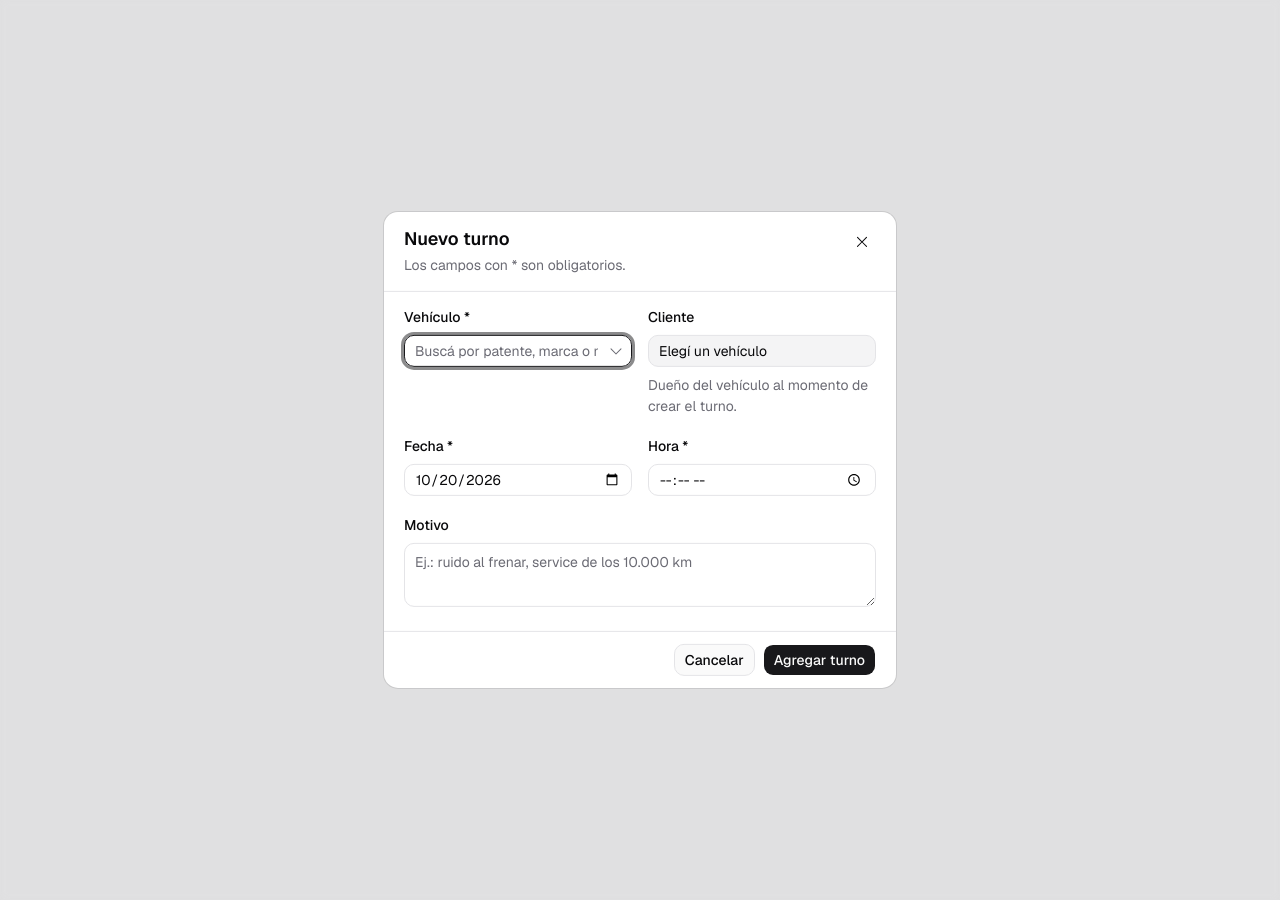
appointment modal: create › stays open with the server's field error
Type "ae" into the dropdown labelled "Vehículo *". click: point(504, 351)
box: [405,335,604,367]
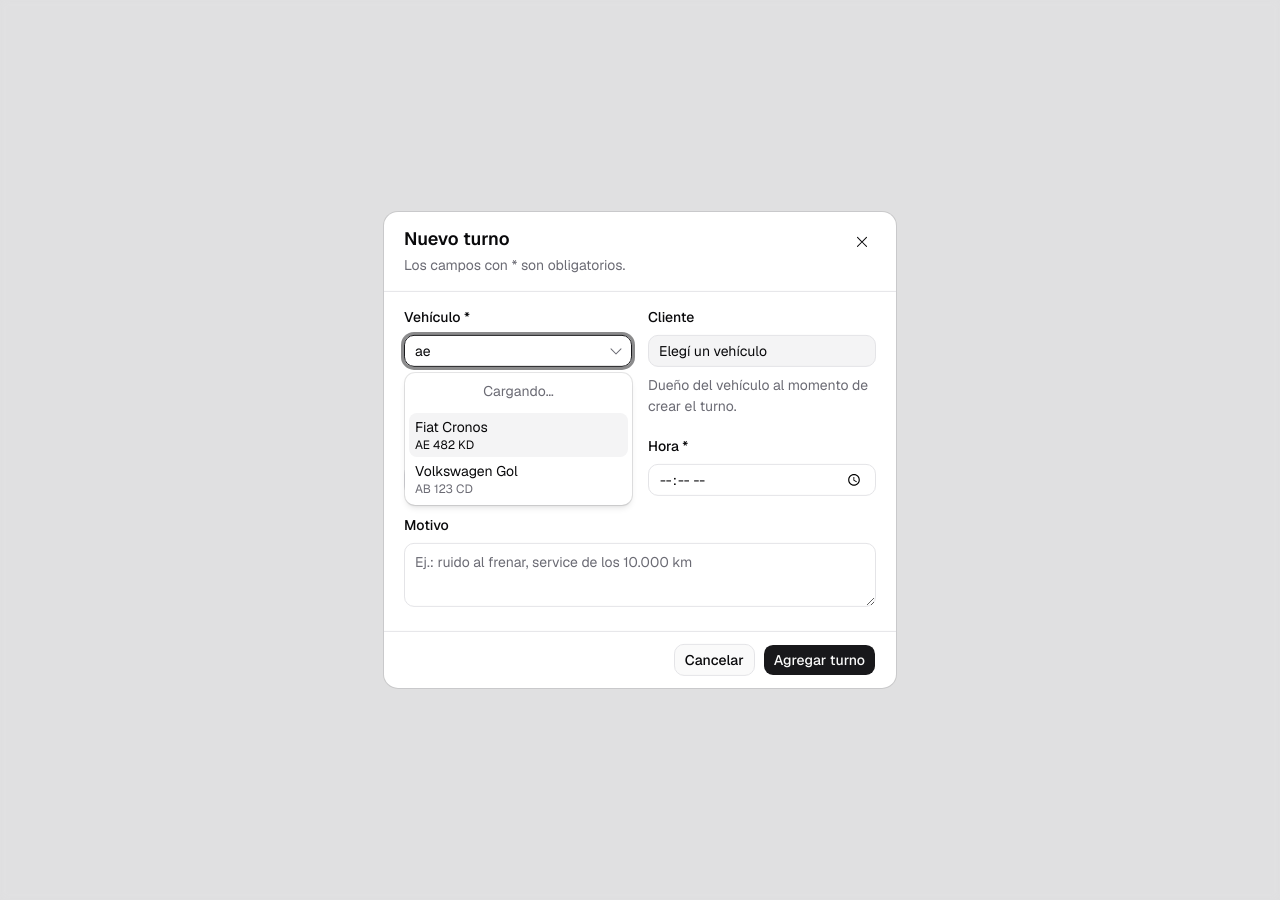
Click the option "Fiat Cronos AE 482 KD". click: point(518, 435)
box: [409,413,628,457]
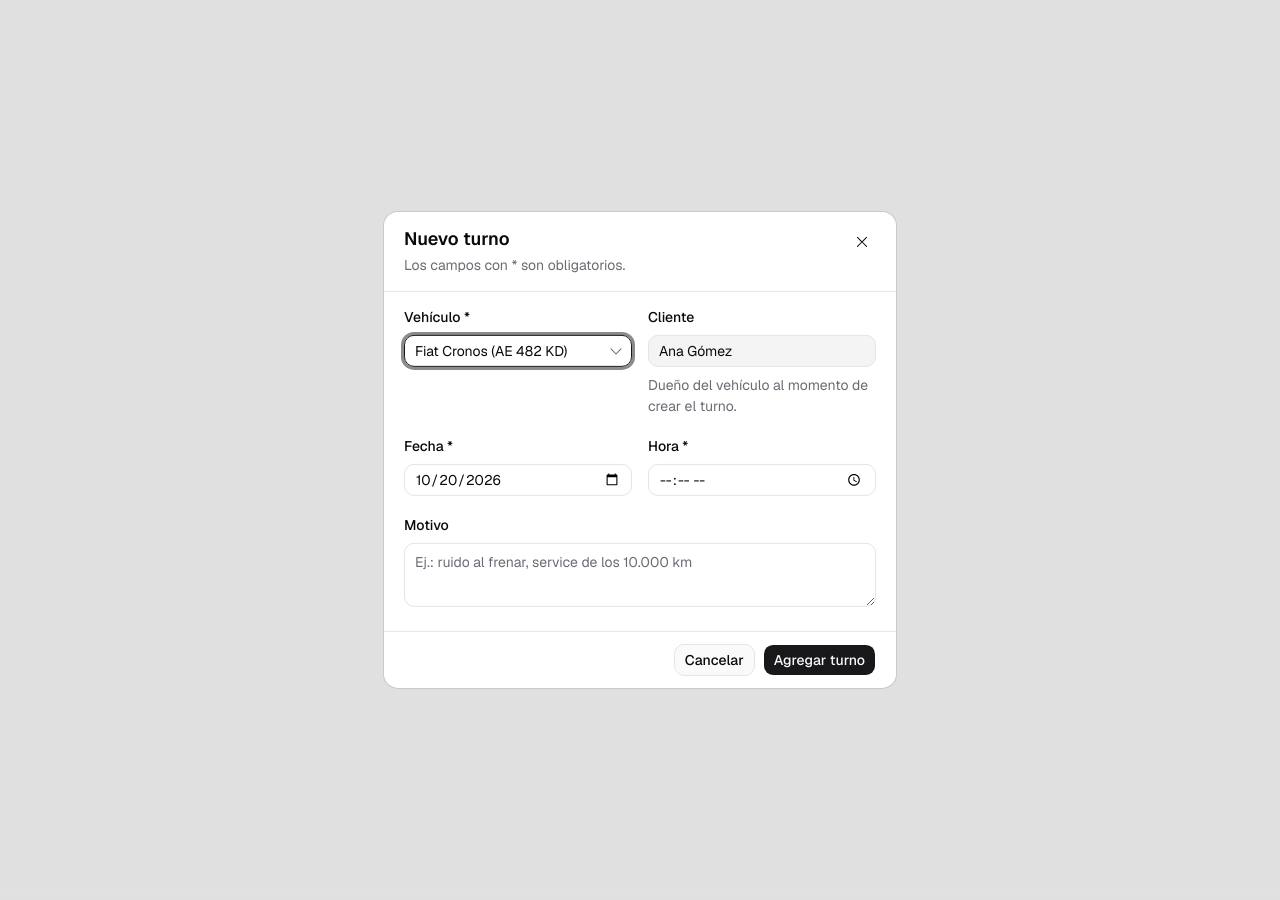
Type "08:00" into the time field labelled "Hora *". click: point(762, 480)
box: [648,464,876,496]
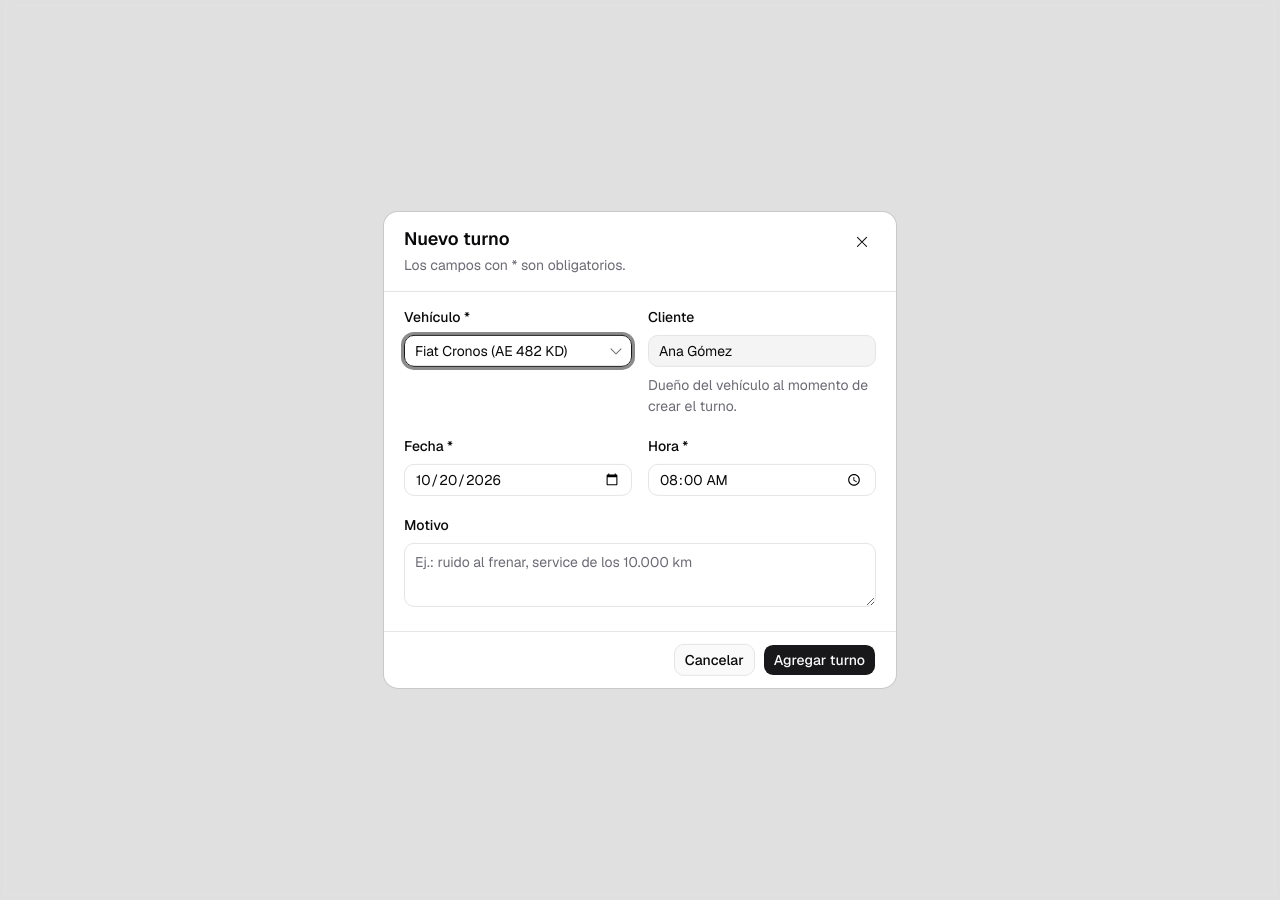
Click the button "Agregar turno". click: point(819, 660)
box: [763,644,876,676]
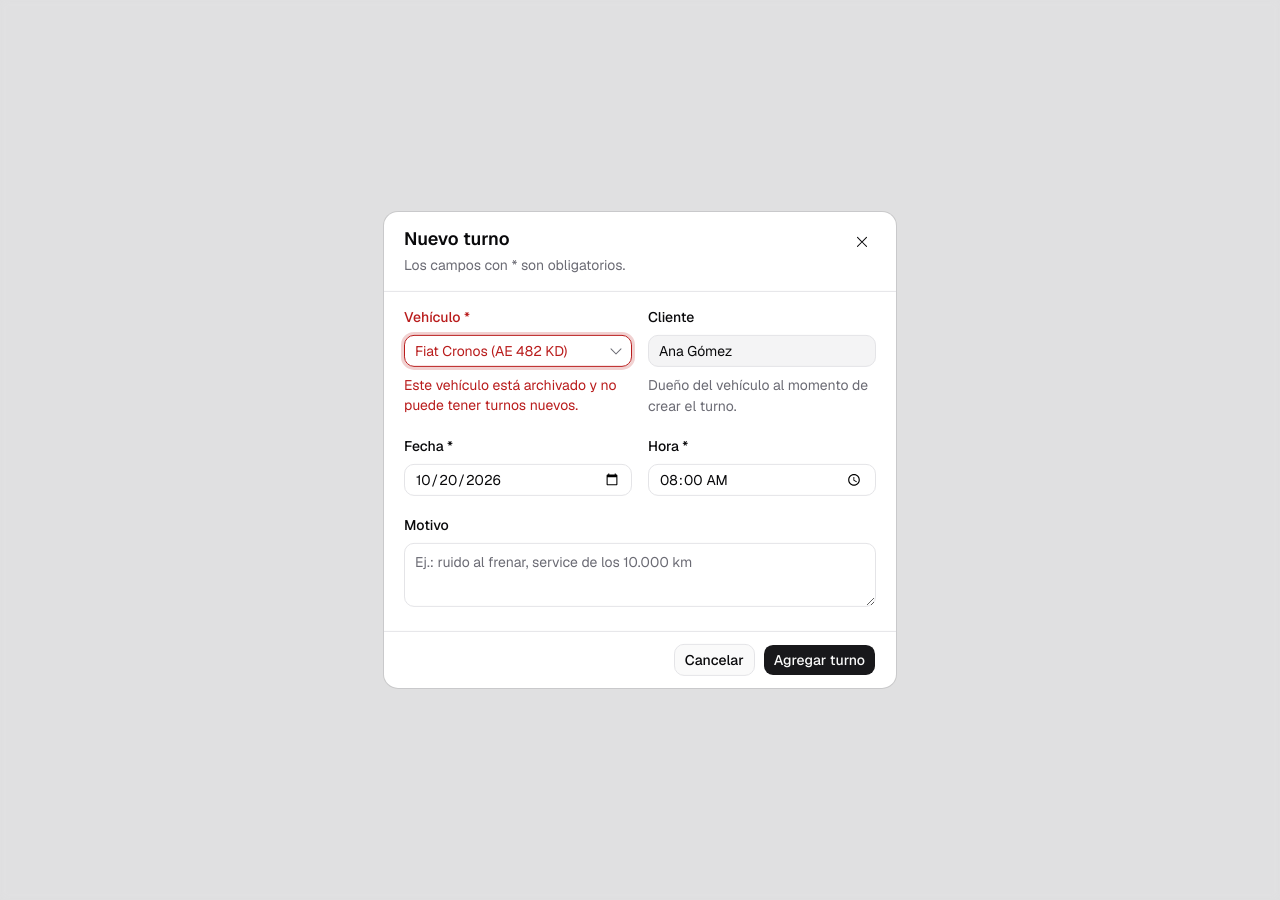
Expected: the text "Este vehículo está archivado y no puede tener turnos nuevos." is shown, [404,375,632,415]
